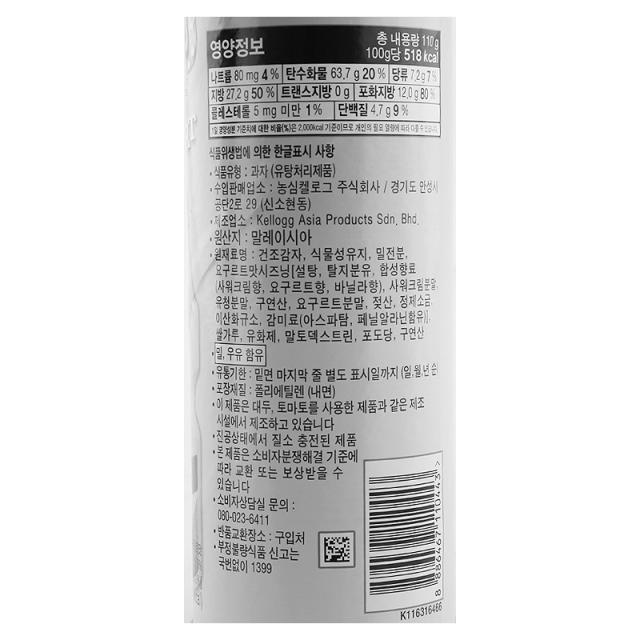Nutrition Label: (197, 13, 459, 149)
